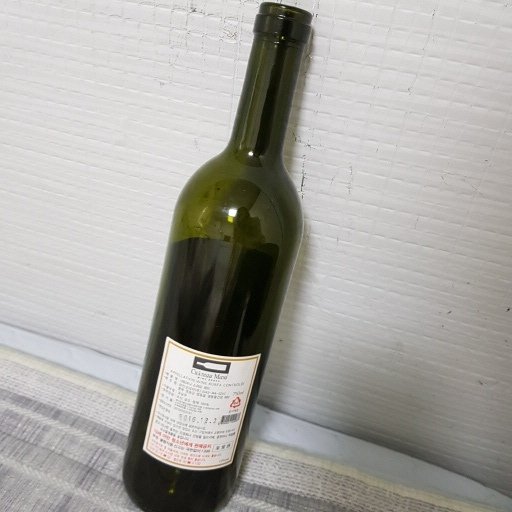Glass_2: (119, 1, 318, 512)
